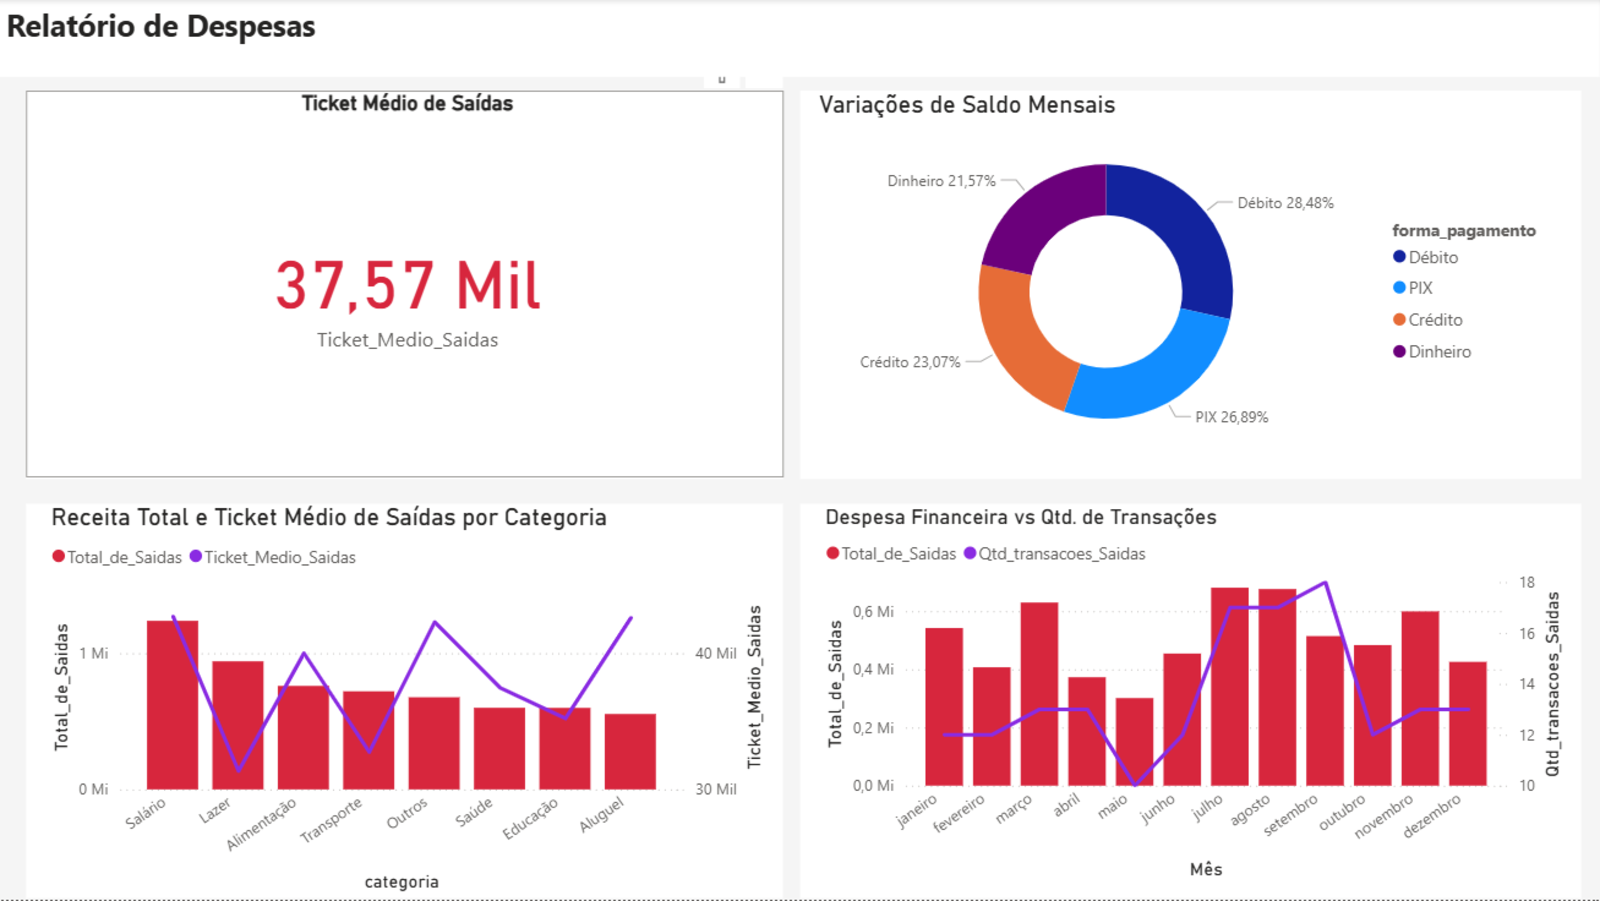

The page's visual inventory and layout, read from the dashboard file:
{"tool":"powerbi","page":{"name":"Relatório de Despesas","canvas":[1280,720],"ordinal":3},"visuals":[{"type":"donutChart","title":"Variações de Saldo Mensais","fields":{"Y":["mini_projeto_financeiro_Clean.Total_de_Saidas"],"Category":["mini_projeto_financeiro_Clean.forma_pagamento"]},"box":[640,73,624,310],"z":0},{"type":"lineClusteredColumnComboChart","title":"Receita Total e Ticket Médio de Saídas por Categoria","fields":{"Category":["mini_projeto_financeiro_Clean.categoria"],"Y":["mini_projeto_financeiro_Clean.Total_de_Saidas"],"Y2":["mini_projeto_financeiro_Clean.Ticket_Medio_Saidas"]},"box":[21,403,605,315],"z":1000},{"type":"card","title":"Ticket Médio de Saídas","fields":{"Values":["mini_projeto_financeiro_Clean.Ticket_Medio_Saidas"]},"box":[21,73,605,310],"z":2000},{"type":"lineClusteredColumnComboChart","title":"Despesa Financeira vs Qtd. de Transações","fields":{"Category":["Calendario.Date.Variation.Hierarquia de datas.Mês"],"Y":["mini_projeto_financeiro_Clean.Total_de_Saidas"],"Y2":["mini_projeto_financeiro_Clean.Qtd_transacoes_Saidas"]},"box":[640,403,624,315],"z":3000},{"type":"textbox","box":[0,0,1279,62],"z":4000}]}

Visuals, with their boxes in screenshot pixels (x1, y1, x2, y2), scaled from the page's 1280x720 canvas onto the 1600x901 screenshot:
"Variações de Saldo Mensais" donutChart: {"left": 800, "top": 91, "right": 1580, "bottom": 479}
"Receita Total e Ticket Médio de Saídas por Categoria" lineClusteredColumnComboChart: {"left": 26, "top": 504, "right": 782, "bottom": 898}
"Ticket Médio de Saídas" card: {"left": 26, "top": 91, "right": 782, "bottom": 479}
"Despesa Financeira vs Qtd. de Transações" lineClusteredColumnComboChart: {"left": 800, "top": 504, "right": 1580, "bottom": 898}
textbox: {"left": 0, "top": 0, "right": 1599, "bottom": 78}
